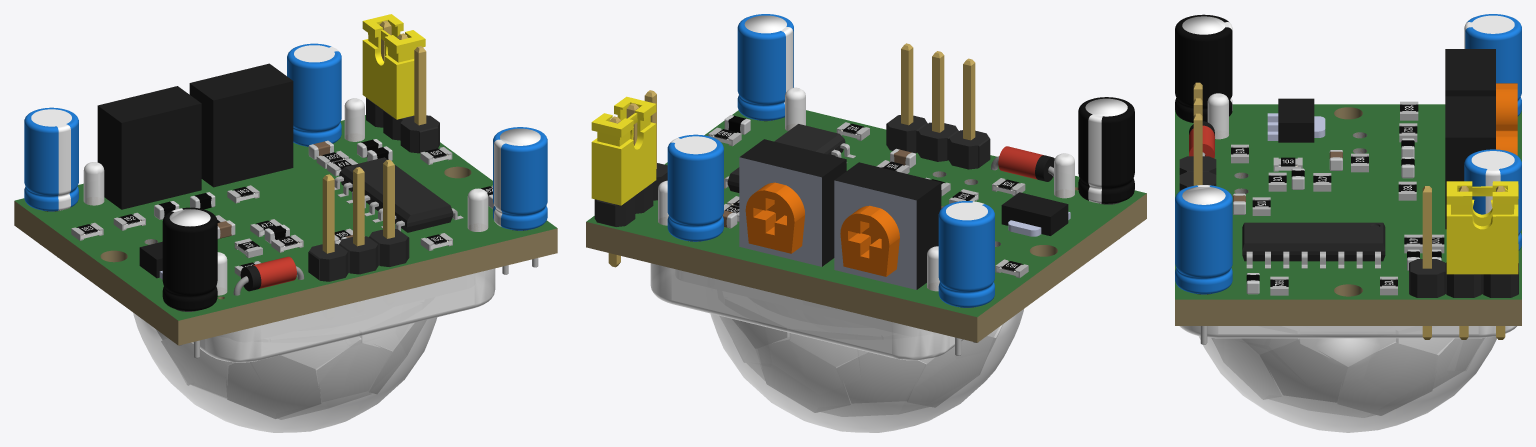
File: PIR Sensor.fbx
3 renders of one model, left to right at view 1: azimuth 30°, elevation 25°; view 2: azimuth 150°, elevation 25°; view 3: azimuth 270°, elevation 25°, orthographic. The views are drawn at different scales.
Parts seen in each view (by area): view 1: PCB, Lens, PotTime, PotSens, Main_cover_blue_25-130-230.003, Main_cover_blue_25-130-230.004, Main_cover_blue_25-130-230.001, Jumper, Main_cover_blue_25-130-230.005, Integrado, SOLID.165, SOLID.169 (+8 smaller); view 2: Lens, PCB, PotTime, PotSens, Main_cover_blue_25-130-230.004, Main_cover_blue_25-130-230.005, Jumper, Main_cover_blue_25-130-230.001, Main_cover_blue_25-130-230.003, SOLID.165, transistor, Integrado (+6 smaller); view 3: PCB, Lens, Jumper, Integrado, Main_cover_blue_25-130-230.001, Main_cover_blue_25-130-230.003, PotSens, PotTime, SOLID.169, Main_cover_blue_25-130-230.005, transistor, Main_cover_blue_25-130-230.004 (+5 smaller).
Part boxes in pixels (<box>): PCB: <box>14,115,557,345</box>; Lens: <box>83,98,495,432</box>; PotTime: <box>97,86,201,209</box>; PotSens: <box>189,63,293,187</box>; Main_cover_blue_25-130-230.003: <box>162,207,217,310</box>; Main_cover_blue_25-130-230.004: <box>287,43,341,146</box>; Main_cover_blue_25-130-230.001: <box>493,127,547,230</box>; Jumper: <box>362,14,425,119</box>; Main_cover_blue_25-130-230.005: <box>24,107,78,211</box>; Integrado: <box>334,157,463,232</box>; SOLID.165: <box>308,229,409,281</box>; SOLID.169: <box>366,97,439,153</box>; Lens: <box>650,87,1074,432</box>; PCB: <box>586,110,1146,342</box>; PotTime: <box>834,162,941,289</box>; PotSens: <box>739,139,846,266</box>; Main_cover_blue_25-130-230.004: <box>667,134,723,241</box>; Main_cover_blue_25-130-230.005: <box>938,201,994,307</box>; Jumper: <box>591,96,656,205</box>; Main_cover_blue_25-130-230.001: <box>737,14,793,120</box>; Main_cover_blue_25-130-230.003: <box>1078,97,1134,203</box>; SOLID.165: <box>886,115,990,169</box>; transistor: <box>1001,192,1070,236</box>; Integrado: <box>724,124,855,192</box>; PCB: <box>1175,104,1521,325</box>; Lens: <box>1179,93,1516,432</box>; Jumper: <box>1446,181,1518,274</box>; Integrado: <box>1242,222,1385,268</box>; Main_cover_blue_25-130-230.001: <box>1175,185,1232,294</box>; Main_cover_blue_25-130-230.003: <box>1175,14,1232,122</box>; PotSens: <box>1445,96,1517,229</box>; PotTime: <box>1445,49,1517,130</box>; SOLID.169: <box>1409,259,1518,297</box>; Main_cover_blue_25-130-230.005: <box>1465,14,1521,116</box>; transistor: <box>1267,98,1325,142</box>; Main_cover_blue_25-130-230.004: <box>1464,149,1521,250</box>.
Bounding box in the file's own units: 241 × 183 × 181.
